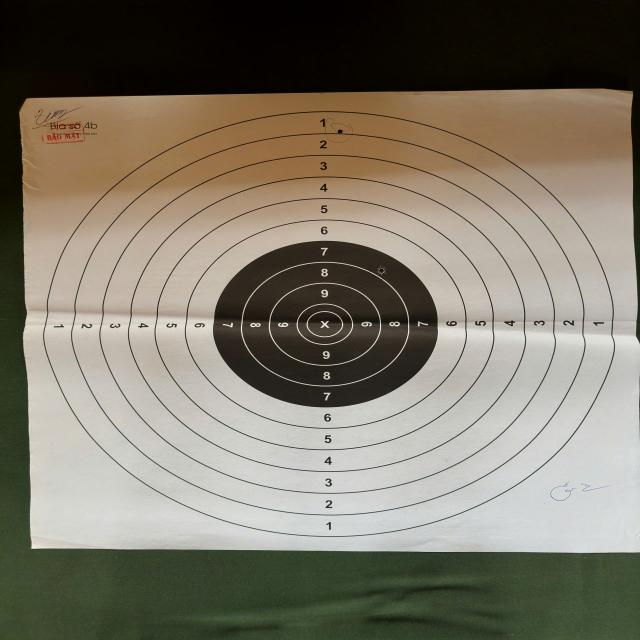bullet: (376, 268, 387, 276), (337, 128, 344, 136)
target: (20, 92, 632, 553)
